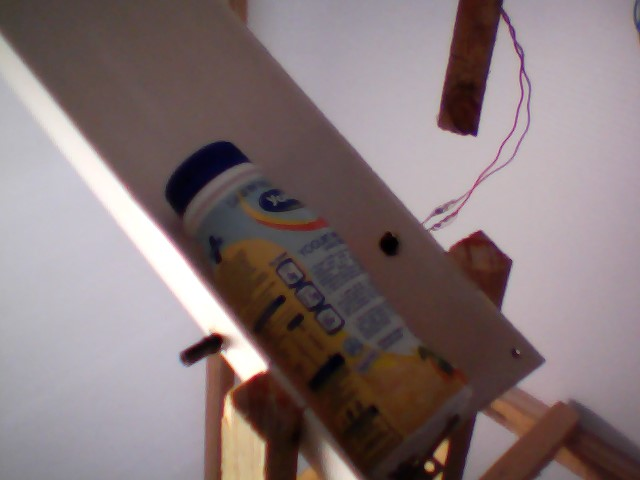plastico: (160, 136, 483, 480)
